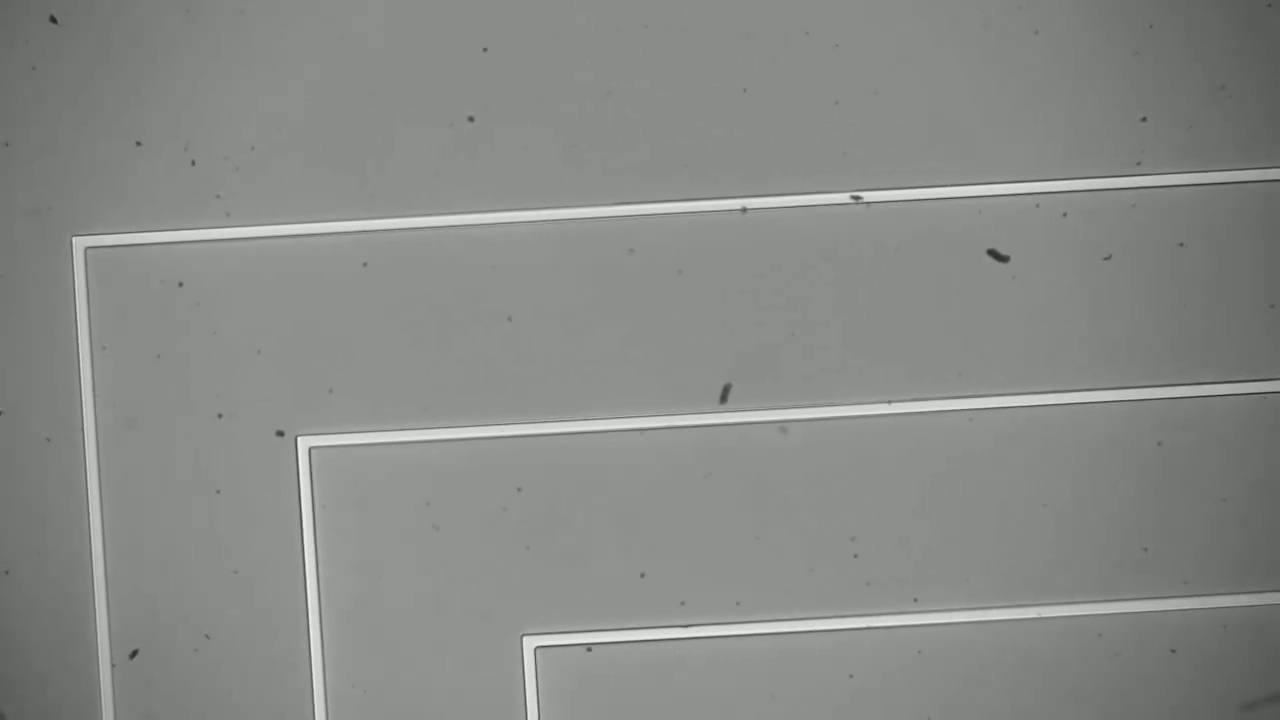stains_enbedded: (836, 180, 874, 214)
